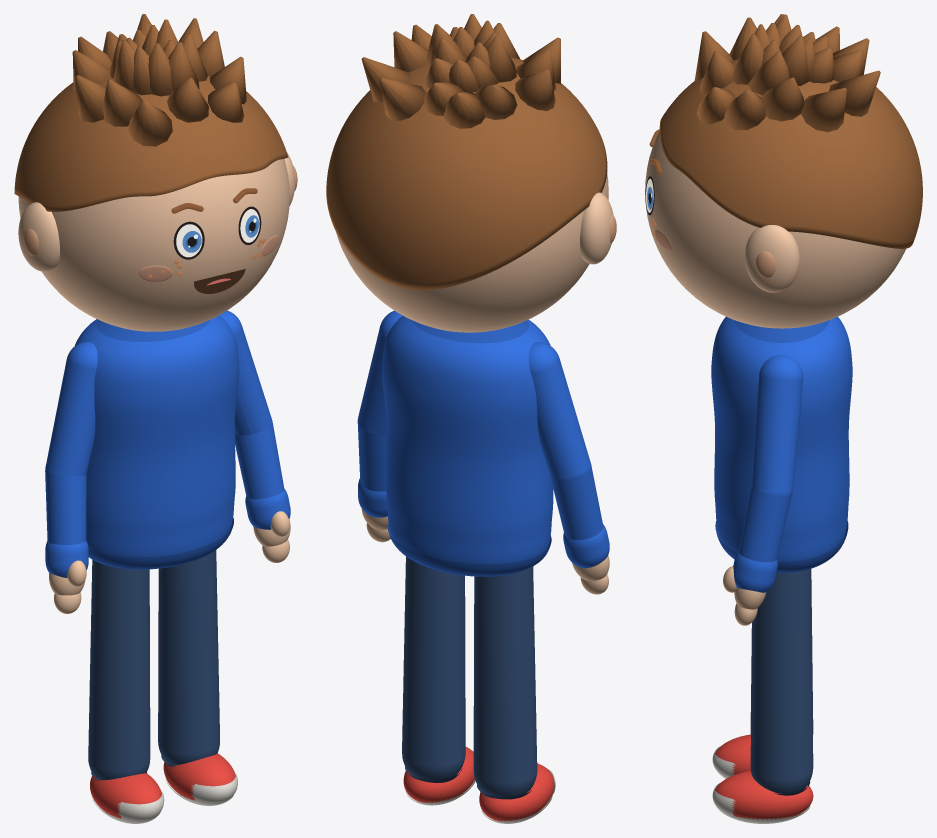
The model's file is broertje_tiener.glb.
3 views of the same model, side by side, from view 1: azimuth 30°, elevation 25°; view 2: azimuth 150°, elevation 25°; view 3: azimuth 270°, elevation 25° (orthographic). The views are drawn at different scales.
Visible parts, largest first — view 1: broertje_tiener_romp, broertje_tiener_hoofd, broertje_tiener_haar, broertje_tiener_been_R, broertje_tiener_been_L, broertje_tiener_bovenarm_R, broertje_tiener_onderarm_R, broertje_tiener_onderarm_L, broertje_tiener_bovenarm_L, broertje_tiener_schoen_R, broertje_tiener_oor_R, broertje_tiener_schoen_L (+20 smaller); view 2: broertje_tiener_haar, broertje_tiener_romp, broertje_tiener_been_R, broertje_tiener_been_L, broertje_tiener_hoofd, broertje_tiener_bovenarm_R, broertje_tiener_onderarm_R, broertje_tiener_bovenarm_L, broertje_tiener_schoen_R, broertje_tiener_romp_boord, broertje_tiener_oor_R, broertje_tiener_schoen_L (+16 smaller); view 3: broertje_tiener_haar, broertje_tiener_romp, broertje_tiener_hoofd, broertje_tiener_been_L, broertje_tiener_bovenarm_L, broertje_tiener_onderarm_L, broertje_tiener_schoen_L, broertje_tiener_oor_L, broertje_tiener_haar_piek18, broertje_tiener_haar_piek16, broertje_tiener_manchet_L, broertje_tiener_haar_piek20 (+14 smaller).
Boxes of the visible parts, x1,y1,x2,y2 form: broertje_tiener_romp: (74,315,239,557); broertje_tiener_hoofd: (18,158,289,331); broertje_tiener_haar: (14,76,288,211); broertje_tiener_been_R: (88,560,150,780); broertje_tiener_been_L: (158,550,219,765); broertje_tiener_bovenarm_R: (45,341,97,476); broertje_tiener_onderarm_R: (45,469,86,544); broertje_tiener_onderarm_L: (235,423,284,499); broertje_tiener_bovenarm_L: (219,310,271,435); broertje_tiener_schoen_R: (90,773,161,818); broertje_tiener_oor_R: (18,202,59,271); broertje_tiener_schoen_L: (163,753,235,800); broertje_tiener_haar: (326,57,607,290); broertje_tiener_romp: (382,315,553,564); broertje_tiener_been_R: (473,566,537,797); broertje_tiener_been_L: (402,556,465,779); broertje_tiener_hoofd: (336,173,608,332); broertje_tiener_bovenarm_R: (528,342,590,480); broertje_tiener_onderarm_R: (550,465,603,540); broertje_tiener_bovenarm_L: (358,310,402,434); broertje_tiener_schoen_R: (479,763,554,821); broertje_tiener_romp_boord: (387,523,551,576); broertje_tiener_oor_R: (580,192,613,264); broertje_tiener_schoen_L: (403,747,474,802); broertje_tiener_haar: (659,59,922,248); broertje_tiener_romp: (711,316,852,561); broertje_tiener_hoofd: (645,130,905,328); broertje_tiener_been_L: (750,569,813,793); broertje_tiener_bovenarm_L: (751,355,803,497); broertje_tiener_onderarm_L: (738,486,791,562); broertje_tiener_schoen_L: (715,771,813,819); broertje_tiener_oor_L: (745,225,799,292); broertje_tiener_haar_piek18: (801,88,846,132); broertje_tiener_haar_piek16: (761,77,804,121); broertje_tiener_manchet_L: (733,551,777,592); broertje_tiener_haar_piek20: (829,70,880,116).
Size of the model in its own units: 0.6542 by 1.78 by 0.5785.
